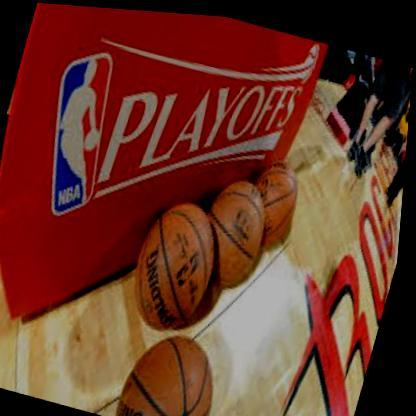basketball: (124, 188, 233, 335), (119, 320, 235, 416), (192, 167, 279, 289), (241, 150, 309, 250)
